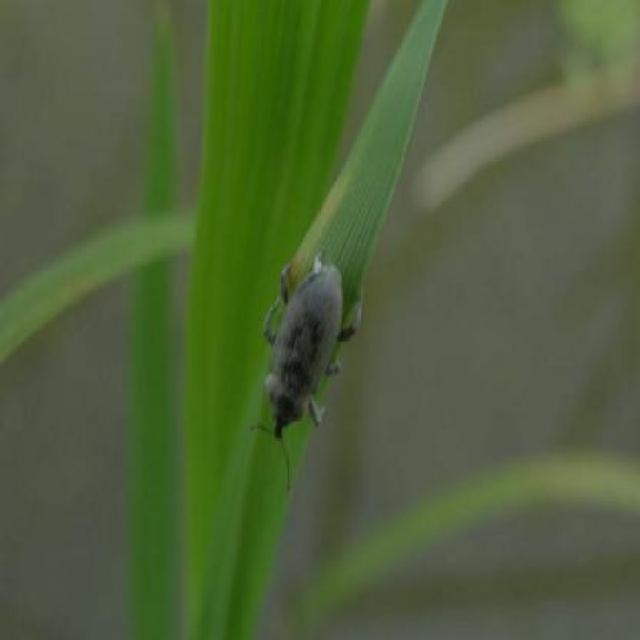rice-bug: (255, 255, 359, 437)
